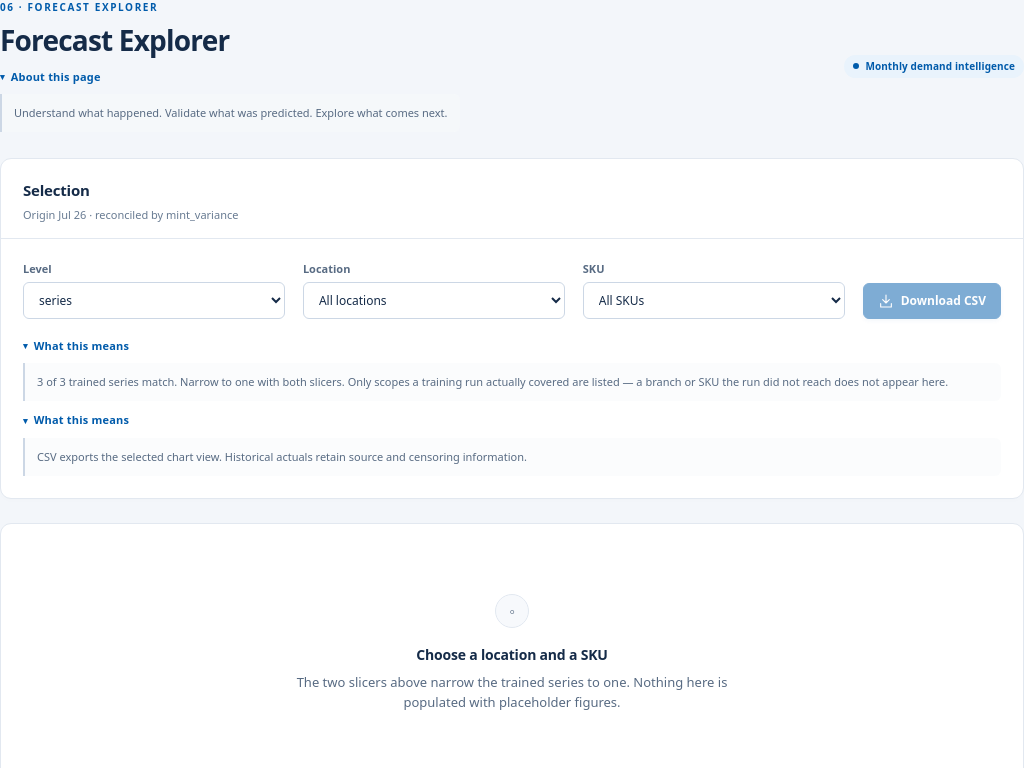
Test: ForecastExplorerPage slicers › falls back to a plain scope picker above series level
Select "national" in the dropdown labelled "Level": point(154, 300) [23,282,285,319]
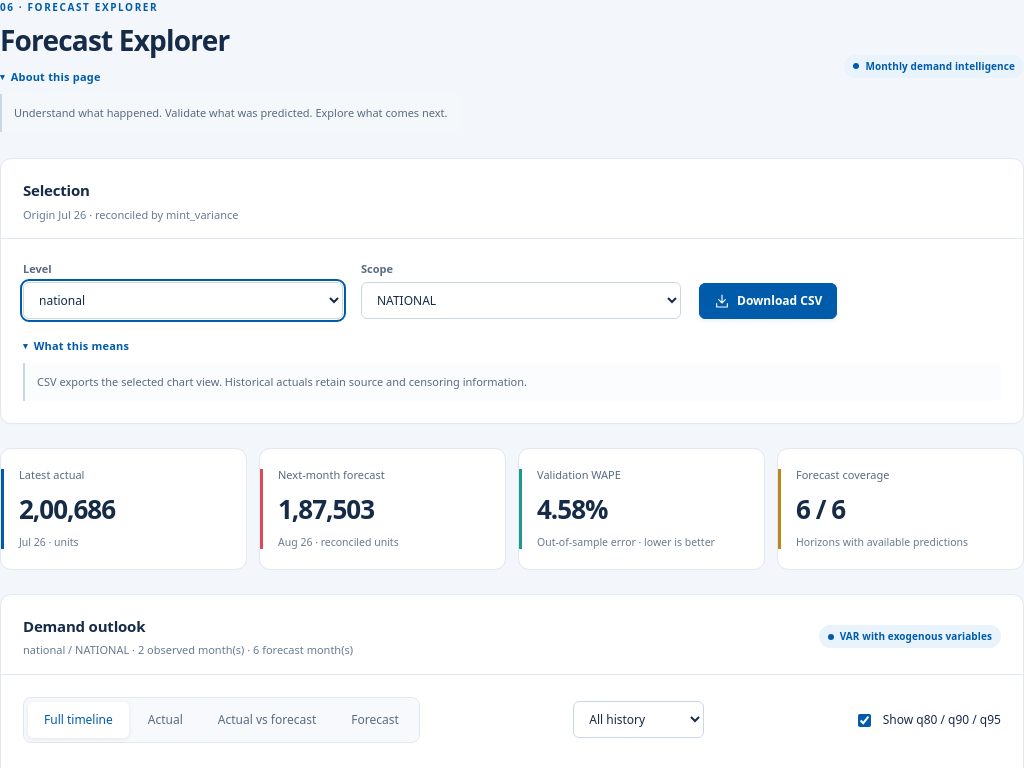
Check: the dropdown labelled "Scope" is shown, box [361,282,681,319]
Check: the text labelled "Location" is gone
Check: the text labelled "SKU" is gone
